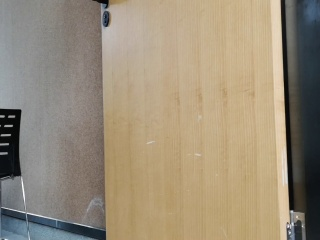room: (91, 1, 315, 240)
